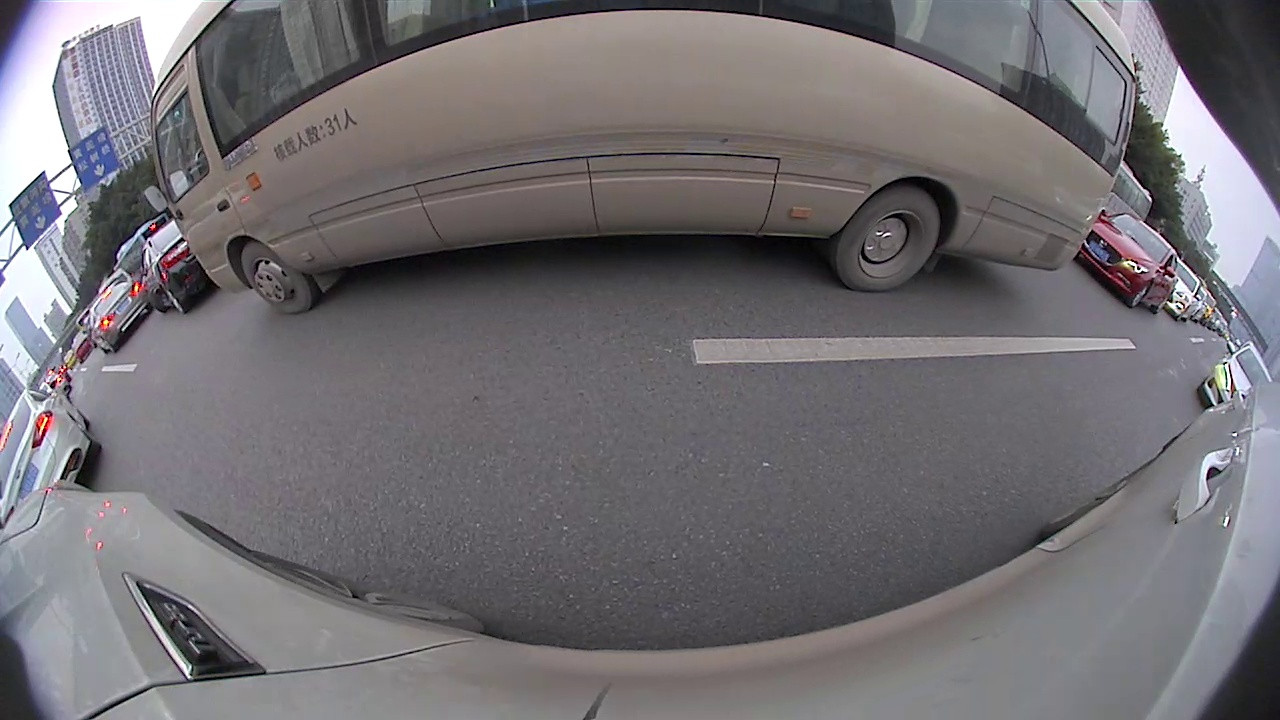bus: (155, 1, 1138, 304)
car: (1, 388, 102, 532), (1076, 211, 1179, 312), (148, 221, 208, 312), (1200, 341, 1273, 407), (89, 280, 149, 351)
front: (238, 242, 315, 311), (1128, 282, 1152, 307)
rear: (833, 188, 940, 292), (163, 285, 185, 312), (1153, 292, 1170, 312)
